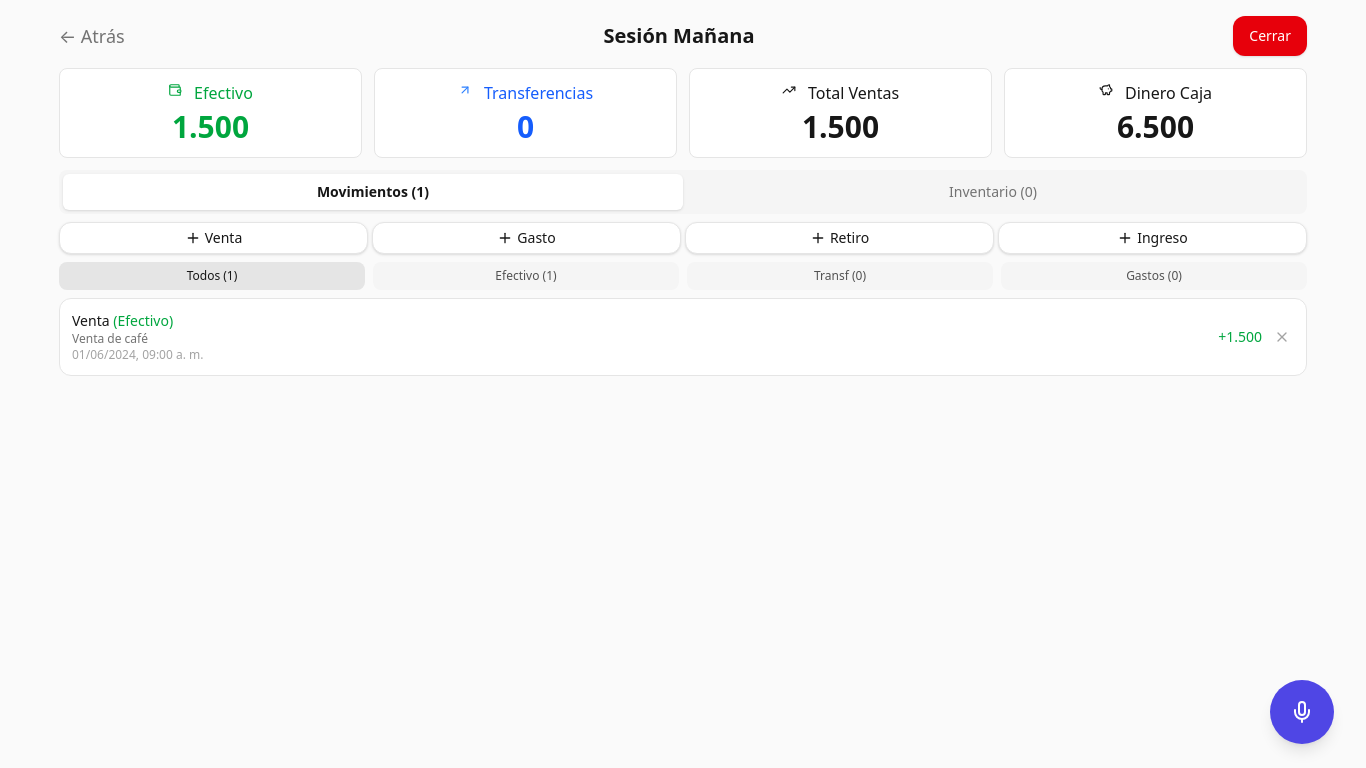
Test: SessionDetail › should open close session modal and cancel
Expected: the text "Sesión Mañana" is shown, [604,22,754,50]
Click the button "Cerrar" at (1270, 36), box [1233,16,1307,56]
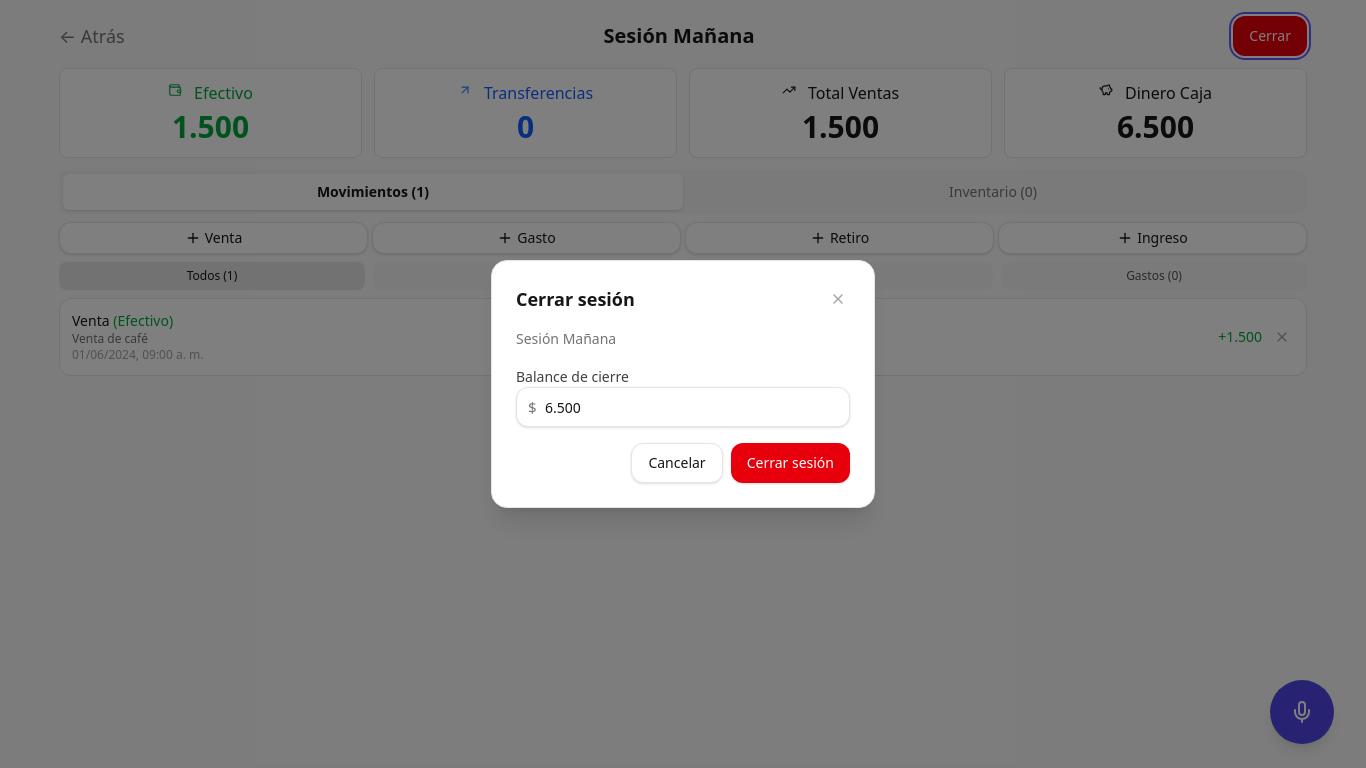
Result: the text "Balance de cierre" is shown at [516,367,629,386]
Click the button "Cancelar" at (677, 463), box [631,443,723,483]
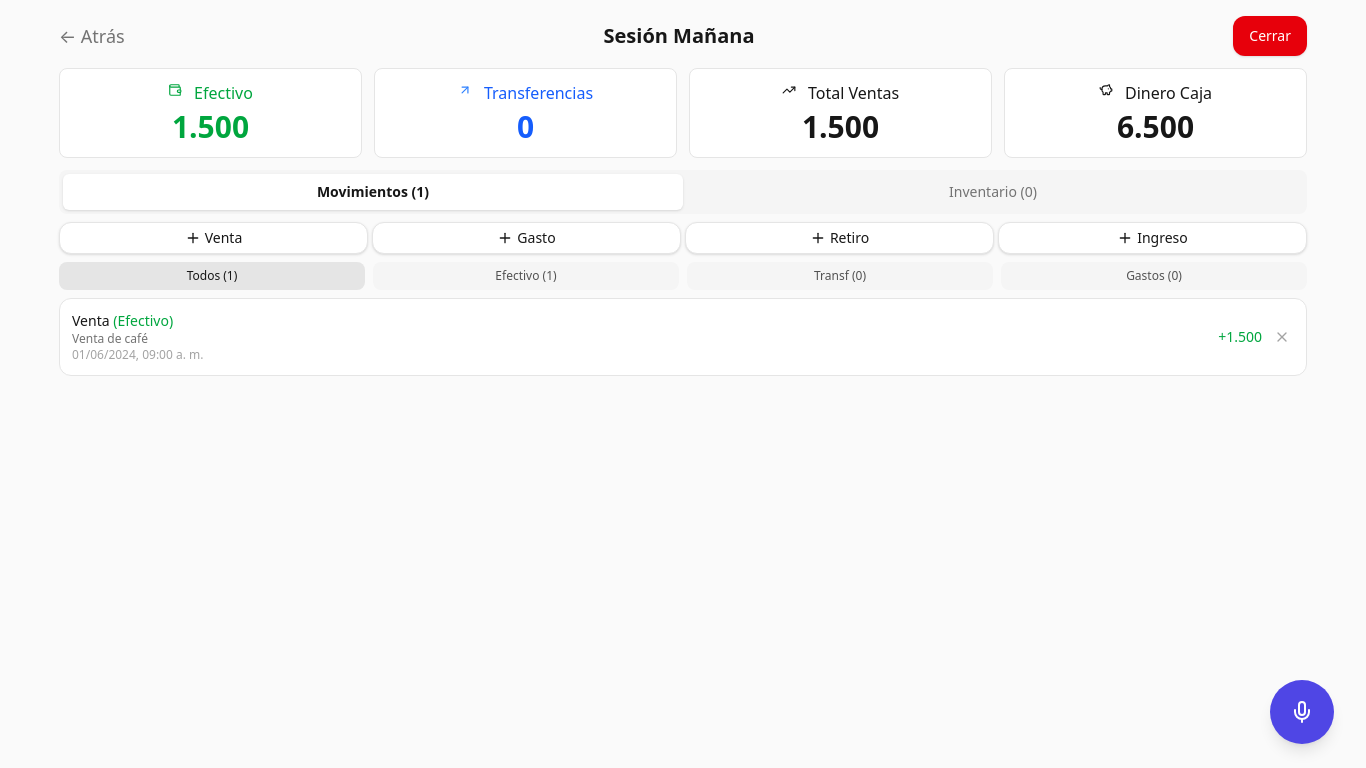
Result: the text "Balance de cierre" is gone
